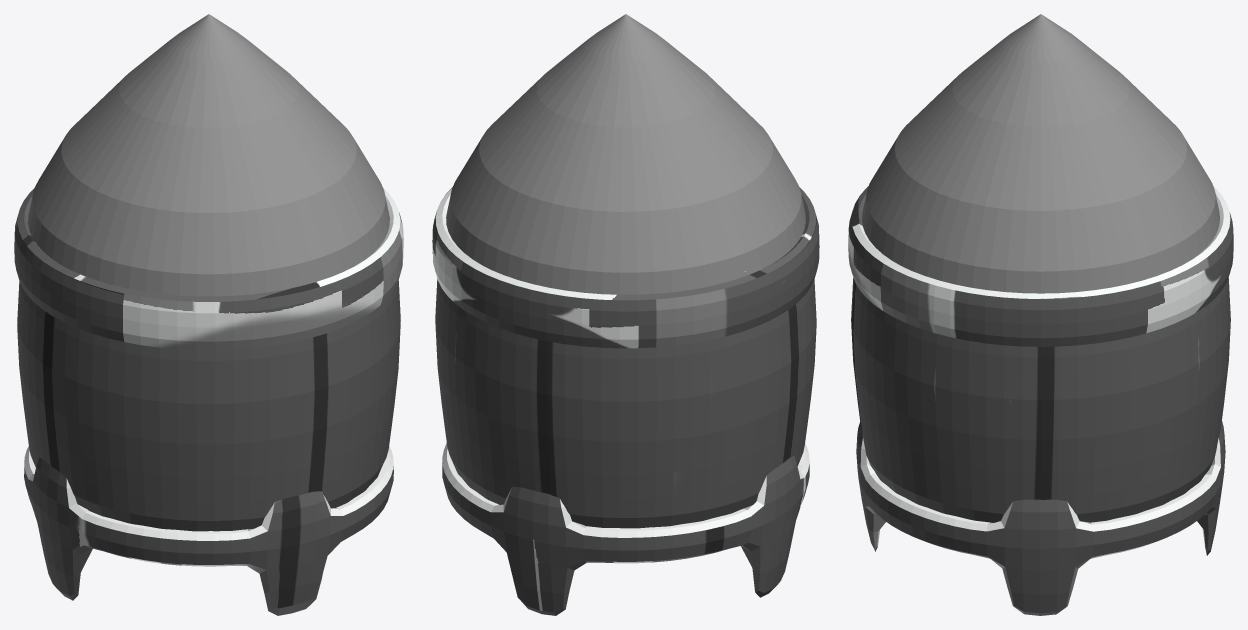
File: Rocket2.fbx
3 renders of one model, left to right at view 1: azimuth 30°, elevation 25°; view 2: azimuth 150°, elevation 25°; view 3: azimuth 270°, elevation 25°, orthographic.
Visible parts, largest first — view 1: Cylinder, Cylinder.002, Cylinder.003; view 2: Cylinder, Cylinder.002, Cylinder.003; view 3: Cylinder, Cylinder.002, Cylinder.003.
Part boxes in pixels (bbox=[...]): Cylinder: bbox=[17, 14, 400, 531]; Cylinder.002: bbox=[14, 188, 403, 350]; Cylinder.003: bbox=[24, 445, 393, 615]; Cylinder: bbox=[435, 14, 816, 528]; Cylinder.002: bbox=[432, 187, 819, 348]; Cylinder.003: bbox=[442, 443, 809, 615]; Cylinder: bbox=[851, 14, 1230, 522]; Cylinder.002: bbox=[848, 186, 1233, 346]; Cylinder.003: bbox=[856, 421, 1225, 615].
Bounding box in the file's own units: 1137 × 1764 × 1137.
2 materials, 2 textured.
